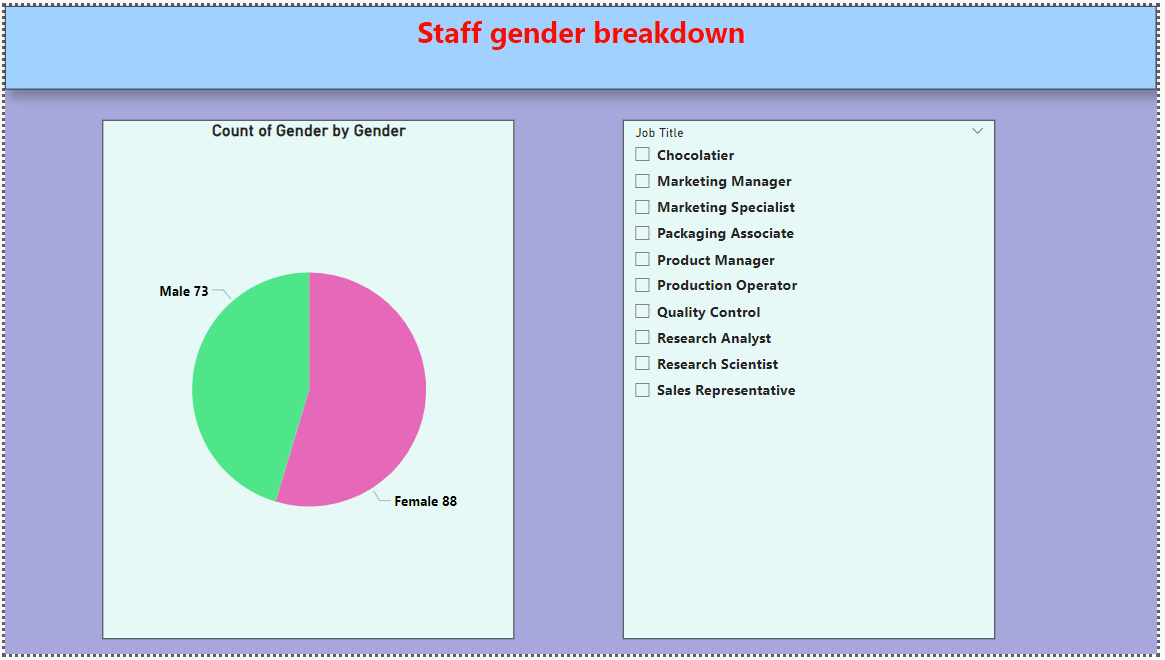

This screenshot's page, from the dashboard's own definition file:
{"tool":"powerbi","page":{"name":"Q2","canvas":[1280,720],"ordinal":1},"visuals":[{"type":"slicer","fields":{"Values":["staff.Job Title"]},"box":[685.9,127.2,413.4,576.9],"z":1000},{"type":"textbox","box":[0,0,1279.5,92.4],"z":2000},{"type":"pieChart","fields":{"Category":["staff.Gender"],"Y":["CountNonNull(staff.Gender)"]},"box":[109,127.2,457.3,576.9],"z":2001}]}

Visuals, with their boxes in screenshot pixels (x1, y1, x2, y2), scaled from the page's 1280x720 canvas onto the 1165x660 screenshot:
slicer - staff.Job Title: (x1=624, y1=117, x2=1001, y2=645)
textbox: (x1=0, y1=0, x2=1164, y2=85)
pieChart - staff.Gender x CountNonNull(staff.Gender): (x1=99, y1=117, x2=515, y2=645)
